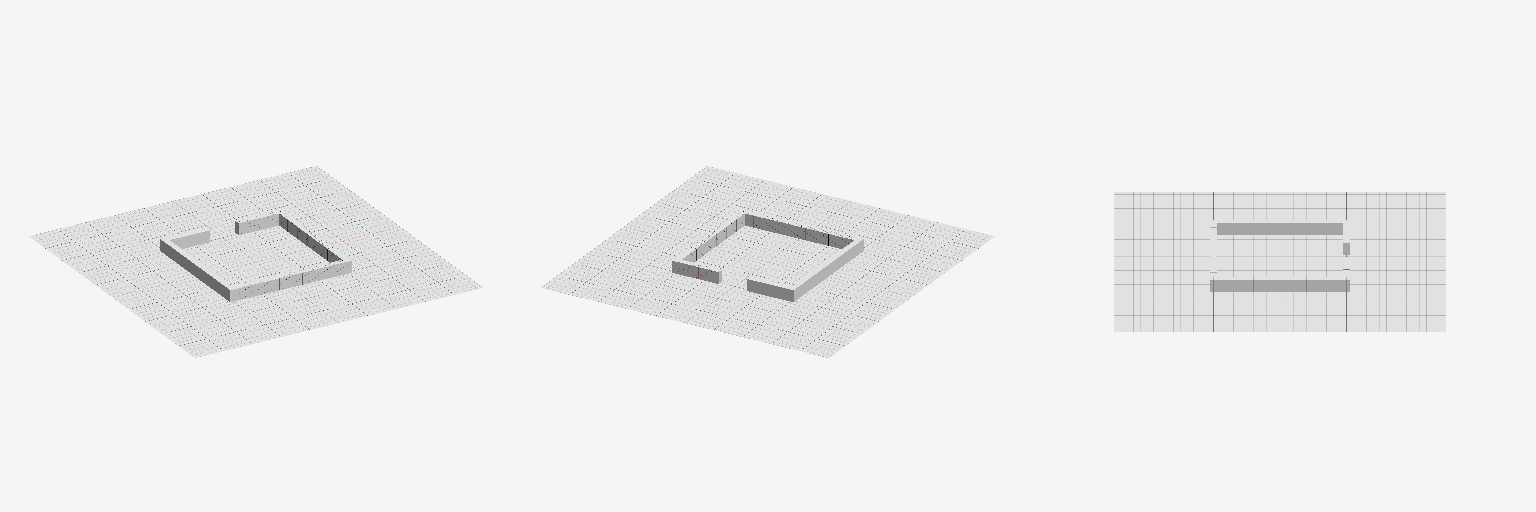
3 views of the same model, side by side, from view 1: azimuth 30°, elevation 25°; view 2: azimuth 150°, elevation 25°; view 3: azimuth 270°, elevation 25° (orthographic).
Visible parts, largest first — view 1: object40, object24, object32, object16, object0, object8; view 2: object40, object24, object32, object16, object0, object8; view 3: object40, object16, object32.
Boxes of the visible parts, x1,y1,x2,y2 form: object40: [29, 166, 482, 357]; object24: [233, 260, 345, 300]; object32: [160, 238, 235, 301]; object16: [276, 210, 351, 273]; object0: [235, 211, 278, 234]; object8: [167, 228, 209, 248]; object40: [541, 166, 994, 357]; object24: [745, 211, 856, 248]; object32: [788, 238, 863, 301]; object16: [672, 210, 747, 273]; object0: [678, 260, 721, 283]; object8: [747, 277, 790, 300]; object40: [1114, 192, 1445, 331]; object16: [1210, 277, 1349, 291]; object32: [1210, 220, 1349, 234].
Size of the model in its own units: 50 by 2 by 50.
Materials: 6 (4 with a texture image).